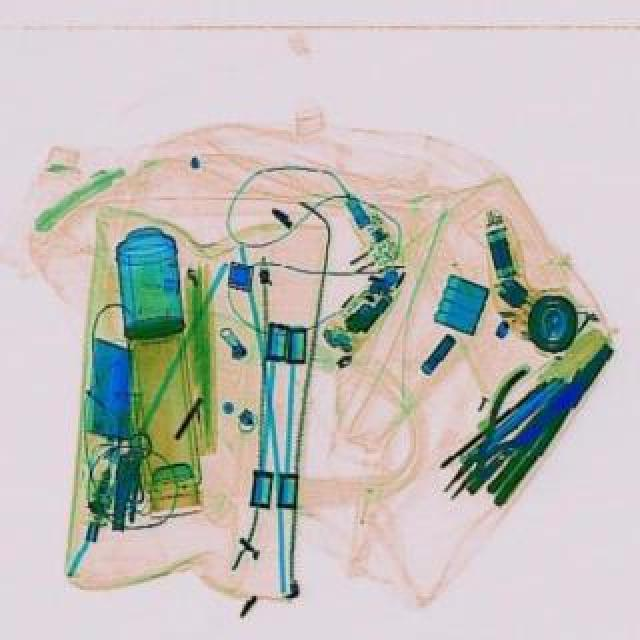wrench: (422, 362, 568, 512)
